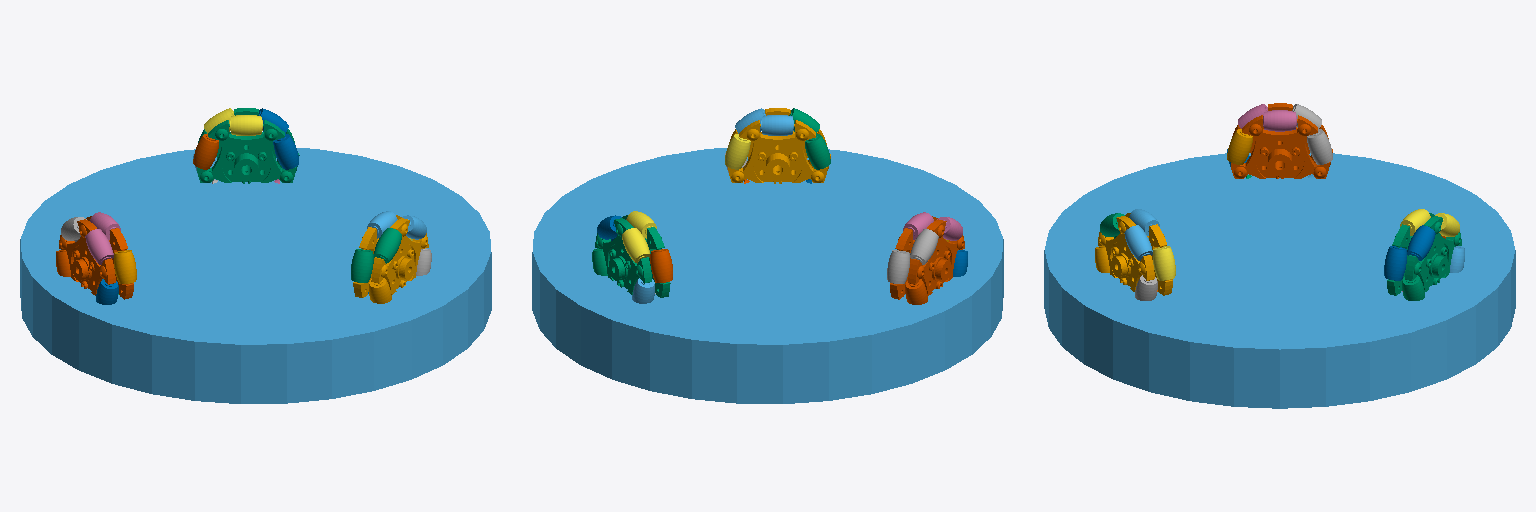
--- Facts derived from the render (not from the file) ---
Views: 3 orthographic renders of the robot side by side, from view 1: azimuth 30°, elevation 25°; view 2: azimuth 150°, elevation 25°; view 3: azimuth 270°, elevation 25°.
Model robotino with 35 links and 34 joints (33 continuous, 1 fixed), rooted at base_link, posed every joint at zero.
Visible links, largest first — view 1: chassis_link, wheel0_link, wheel1_link, wheel2_link, roller_leftupfront_wheel1_link, roller_rightupfront_wheel2_link, roller_rightdownback_wheel1_link, roller_lefttdownback_wheel2_link, roller_upfront_wheel0_link, roller_rightupfront_wheel0_link, roller_leftupfront_wheel0_link; view 2: chassis_link, wheel2_link, wheel0_link, wheel1_link, roller_rightupfront_wheel1_link, roller_leftupfront_wheel0_link, roller_lefttdownback_wheel1_link, roller_rightdownback_wheel0_link, roller_upfront_wheel2_link, roller_leftupfront_wheel2_link, roller_rightupfront_wheel2_link; view 3: chassis_link, wheel1_link, wheel2_link, wheel0_link, roller_upfront_wheel1_link, roller_leftupfront_wheel2_link, roller_rightupfront_wheel0_link, roller_lefttdownback_wheel0_link, roller_rightdownback_wheel2_link, roller_rightupfront_wheel1_link, roller_leftupfront_wheel1_link.
Link boxes in pixels (box(x1,y1,x2,y2)): chassis_link: box(20, 148, 491, 403); wheel0_link: box(197, 108, 295, 183); wheel1_link: box(59, 216, 133, 299); wheel2_link: box(353, 215, 428, 297); roller_leftupfront_wheel1_link: box(114, 250, 136, 283); roller_rightupfront_wheel2_link: box(351, 249, 373, 282); roller_rightdownback_wheel1_link: box(85, 229, 113, 264); roller_lefttdownback_wheel2_link: box(374, 228, 401, 263); roller_upfront_wheel0_link: box(230, 115, 262, 135); roller_rightupfront_wheel0_link: box(273, 134, 298, 169); roller_leftupfront_wheel0_link: box(193, 134, 218, 169); chassis_link: box(532, 148, 1003, 403); wheel2_link: box(728, 108, 827, 183); wheel0_link: box(595, 215, 670, 297); wheel1_link: box(890, 216, 964, 299); roller_rightupfront_wheel1_link: box(887, 250, 909, 283); roller_leftupfront_wheel0_link: box(650, 249, 672, 282); roller_lefttdownback_wheel1_link: box(910, 229, 938, 264); roller_rightdownback_wheel0_link: box(622, 228, 649, 263); roller_upfront_wheel2_link: box(761, 115, 793, 135); roller_leftupfront_wheel2_link: box(725, 134, 750, 169); roller_rightupfront_wheel2_link: box(805, 134, 830, 169); chassis_link: box(1044, 153, 1515, 408); wheel1_link: box(1231, 103, 1329, 178); wheel2_link: box(1098, 213, 1172, 295); wheel0_link: box(1387, 213, 1461, 295); roller_upfront_wheel1_link: box(1263, 110, 1296, 131); roller_leftupfront_wheel2_link: box(1153, 246, 1175, 280); roller_rightupfront_wheel0_link: box(1384, 246, 1406, 280); roller_lefttdownback_wheel0_link: box(1407, 225, 1435, 260); roller_rightdownback_wheel2_link: box(1124, 225, 1152, 260); roller_rightupfront_wheel1_link: box(1307, 129, 1332, 164); roller_leftupfront_wheel1_link: box(1227, 129, 1252, 164).
Size in the robot's own frame: 0.36 by 0.36 by 0.1054 metres.
Meshes: 2 distinct files referenced, 33 mesh visuals loaded (2 binary STL).

The robot description file, URDF, robot "robotino":
<?xml version="1.0" ?>
<!-- =================================================================================== -->
<!-- |    This document was autogenerated by xacro from robotino.urdf.xacro            | -->
<!-- |    EDITING THIS FILE BY HAND IS NOT RECOMMENDED                                 | -->
<!-- =================================================================================== -->
<robot name="robotino">
  <!-- Used for fixing robot to the world in Gazebo -->
  <link name="base_link">
    <!-- <xacro:inertial_cylinder mass="${WHEEL_MASS}" height="${WHEEL_HEIGHT}" radius="${WHEEL_RADIUS}">
            <origin xyz="0 0 0"/>
        </xacro:inertial_cylinder> -->
  </link>
  <link name="chassis_link">
    <inertial>
      <origin xyz="0 0 0"/>
      <mass value="20"/>
      <inertia ixx="0.16616666666666666" ixy="0.0" ixz="0.0" iyy="0.16616666666666666" iyz="0.0" izz="0.32399999999999995"/>
    </inertial>
    <visual>
      <origin rpy="0 0 0" xyz="0 0 0.05"/>
      <origin rpy="0 0 1.570795" xyz="0.01 0 0"/>
      <geometry>
        <cylinder length="0.05" radius="0.18"/>
        <mesh filename="package://robotino_sim/description/meshes/robotino_base.dae" scale="0.01 0.01 0.01"/>
      </geometry>
    </visual>
    <collision>
      <origin rpy="0 0 0" xyz="0 0 0.05"/>
      <geometry>
        <cylinder length="0.05" radius="0.18"/>
      </geometry>
    </collision>
  </link>
  <joint name="chassis_joint" type="fixed">
    <parent link="base_link"/>
    <child link="chassis_link"/>
    <origin xyz="0 0 0"/>
  </joint>
  <gazebo reference="chassis">
    <material>Gazebo/White</material>
    <turnGravityOff>false</turnGravityOff>
  </gazebo>
  <link name="wheel0_link">
    <inertial>
      <origin xyz="0 0 0"/>
      <mass value="1.26"/>
      <inertia ixx="0.000672" ixy="0.0" ixz="0.0" iyy="0.000672" iyz="0.0" izz="0.001008"/>
    </inertial>
    <visual>
      <geometry>
        <mesh filename="package://robotino_roller/description/mesh/rim.stl" scale="0.01 0.01 0.01"/>
      </geometry>
    </visual>
    <collision>
      <geometry>
        <mesh filename="package://robotino_roller/description/mesh/rim.stl" scale="0.01 0.01 0.01"/>
      </geometry>
    </collision>
  </link>
  <joint name="wheel0_joint" type="continuous">
    <parent link="chassis_link"/>
    <child link="wheel0_link"/>
    <origin rpy="1.570795 0 -0.5235983333333333" xyz="0.065 0.11 0.04"/>
    <axis xyz="0 0 1"/>
  </joint>
  <gazebo reference="wheel0_link">
    <material>Gazebo/Yellow</material>
    <turnGravityOff>false</turnGravityOff>
  </gazebo>
  <link name="roller_upfront_wheel0_link">
    <inertial>
      <origin xyz="0 0 -0.00045721033986053993"/>
      <mass value="0.1"/>
      <inertia ixx="7.0710067480021846e-06" ixy="0.0" ixz="0.0" iyy="7.0710067480021846e-06" iyz="0.0" izz="3.4517509961418232e-06"/>
    </inertial>
    <visual>
      <geometry>
        <mesh filename="package://robotino_roller/description/mesh/roller.stl" scale="0.01 0.01 0.01"/>
      </geometry>
    </visual>
    <collision>
      <geometry>
        <mesh filename="package://robotino_roller/description/mesh/roller.stl" scale="0.01 0.01 0.01"/>
      </geometry>
    </collision>
  </link>
  <gazebo reference="roller_upfront_wheel0_link">
    <material>Gazebo/Black</material>
    <!-- <mu1 value="2.5" />
			<mu2 value="2.5" />
			<kp value="5000" />
			<kd value="10" /> -->
  </gazebo>
  <joint name="roller_upfront_wheel0_joint" type="continuous">
    <parent link="wheel0_link"/>
    <child link="roller_upfront_wheel0_link"/>
    <axis xyz="0 0 1"/>
    <origin rpy="-1.570796326794896 0 1.570796326794896" xyz="0.0 0.0320713725278268 0.007331361134789999"/>
    <!--<dynamics damping="0.001"/>-->
  </joint>
  <link name="roller_rightupfront_wheel0_link">
    <inertial>
      <origin xyz="0 0 -0.00045721033986053993"/>
      <mass value="0.1"/>
      <inertia ixx="7.0710067480021846e-06" ixy="0.0" ixz="0.0" iyy="7.0710067480021846e-06" iyz="0.0" izz="3.4517509961418232e-06"/>
    </inertial>
    <visual>
      <geometry>
        <mesh filename="package://robotino_roller/description/mesh/roller.stl" scale="0.01 0.01 0.01"/>
      </geometry>
    </visual>
    <collision>
      <geometry>
        <mesh filename="package://robotino_roller/description/mesh/roller.stl" scale="0.01 0.01 0.01"/>
      </geometry>
    </collision>
  </link>
  <gazebo reference="roller_rightupfront_wheel0_link">
    <material>Gazebo/Black</material>
    <!-- <mu1 value="2.5" />
			<mu2 value="2.5" />
			<kp value="5000" />
			<kd value="10" /> -->
  </gazebo>
  <joint name="roller_rightupfront_wheel0_joint" type="continuous">
    <parent link="wheel0_link"/>
    <child link="roller_rightupfront_wheel0_link"/>
    <axis xyz="0 0 1"/>
    <origin rpy="-1.570796326794896 0 -2.82743" xyz="0.0304984623207264 0.0099040024057254 0.007331361134789999"/>
    <!--<dynamics damping="0.001"/>-->
  </joint>
  <link name="roller_leftupfront_wheel0_link">
    <inertial>
      <origin xyz="0 0 -0.00045721033986053993"/>
      <mass value="0.1"/>
      <inertia ixx="7.0710067480021846e-06" ixy="0.0" ixz="0.0" iyy="7.0710067480021846e-06" iyz="0.0" izz="3.4517509961418232e-06"/>
    </inertial>
    <visual>
      <geometry>
        <mesh filename="package://robotino_roller/description/mesh/roller.stl" scale="0.01 0.01 0.01"/>
      </geometry>
    </visual>
    <collision>
      <geometry>
        <mesh filename="package://robotino_roller/description/mesh/roller.stl" scale="0.01 0.01 0.01"/>
      </geometry>
    </collision>
  </link>
  <gazebo reference="roller_leftupfront_wheel0_link">
    <material>Gazebo/Black</material>
    <!-- <mu1 value="2.5" />
			<mu2 value="2.5" />
			<kp value="5000" />
			<kd value="10" /> -->
  </gazebo>
  <joint name="roller_leftupfront_wheel0_joint" type="continuous">
    <parent link="wheel0_link"/>
    <child link="roller_leftupfront_wheel0_link"/>
    <axis xyz="0 0 1"/>
    <origin rpy="-1.570796326794896 0 2.82743" xyz="-0.0304984623207264 0.0099040024057254 0.007331361134789999"/>
    <!--<dynamics damping="0.001"/>-->
  </joint>
  <link name="roller_rightdownfront_wheel0_link">
    <inertial>
      <origin xyz="0 0 -0.00045721033986053993"/>
      <mass value="0.1"/>
      <inertia ixx="7.0710067480021846e-06" ixy="0.0" ixz="0.0" iyy="7.0710067480021846e-06" iyz="0.0" izz="3.4517509961418232e-06"/>
    </inertial>
    <visual>
      <geometry>
        <mesh filename="package://robotino_roller/description/mesh/roller.stl" scale="0.01 0.01 0.01"/>
      </geometry>
    </visual>
    <collision>
      <geometry>
        <mesh filename="package://robotino_roller/description/mesh/roller.stl" scale="0.01 0.01 0.01"/>
      </geometry>
    </collision>
  </link>
  <gazebo reference="roller_rightdownfront_wheel0_link">
    <material>Gazebo/Black</material>
    <!-- <mu1 value="2.5" />
			<mu2 value="2.5" />
			<kp value="5000" />
			<kd value="10" /> -->
  </gazebo>
  <joint name="roller_rightdownfront_wheel0_joint" type="continuous">
    <parent link="wheel0_link"/>
    <child link="roller_rightdownfront_wheel0_link"/>
    <axis xyz="0 0 1"/>
    <origin rpy="-1.570796326794896 0 -0.959931" xyz="0.018848262990169198 -0.0259530184171566 0.007331361134789999"/>
    <!--<dynamics damping="0.001"/>-->
  </joint>
  <link name="roller_lefttdownfront_wheel0_link">
    <inertial>
      <origin xyz="0 0 -0.00045721033986053993"/>
      <mass value="0.1"/>
      <inertia ixx="7.0710067480021846e-06" ixy="0.0" ixz="0.0" iyy="7.0710067480021846e-06" iyz="0.0" izz="3.4517509961418232e-06"/>
    </inertial>
    <visual>
      <geometry>
        <mesh filename="package://robotino_roller/description/mesh/roller.stl" scale="0.01 0.01 0.01"/>
      </geometry>
    </visual>
    <collision>
      <geometry>
        <mesh filename="package://robotino_roller/description/mesh/roller.stl" scale="0.01 0.01 0.01"/>
      </geometry>
    </collision>
  </link>
  <gazebo reference="roller_lefttdownfront_wheel0_link">
    <material>Gazebo/Black</material>
    <!-- <mu1 value="2.5" />
			<mu2 value="2.5" />
			<kp value="5000" />
			<kd value="10" /> -->
  </gazebo>
  <joint name="roller_lefttdownfront_wheel0_joint" type="continuous">
    <parent link="wheel0_link"/>
    <child link="roller_lefttdownfront_wheel0_link"/>
    <axis xyz="0 0 1"/>
    <origin rpy="-1.570796326794896 0 0.959931" xyz="-0.018848262990169198 -0.0259530184171566 0.007331361134789999"/>
    <!--<dynamics damping="0.001"/>-->
  </joint>
  <link name="roller_upback_wheel0_link">
    <inertial>
      <origin xyz="0 0 -0.00045721033986053993"/>
      <mass value="0.1"/>
      <inertia ixx="7.0710067480021846e-06" ixy="0.0" ixz="0.0" iyy="7.0710067480021846e-06" iyz="0.0" izz="3.4517509961418232e-06"/>
    </inertial>
    <visual>
      <geometry>
        <mesh filename="package://robotino_roller/description/mesh/roller.stl" scale="0.01 0.01 0.01"/>
      </geometry>
    </visual>
    <collision>
      <geometry>
        <mesh filename="package://robotino_roller/description/mesh/roller.stl" scale="0.01 0.01 0.01"/>
      </geometry>
    </collision>
  </link>
  <gazebo reference="roller_upback_wheel0_link">
    <material>Gazebo/Black</material>
    <!-- <mu1 value="2.5" />
			<mu2 value="2.5" />
			<kp value="5000" />
			<kd value="10" /> -->
  </gazebo>
  <joint name="roller_upback_wheel0_joint" type="continuous">
    <parent link="wheel0_link"/>
    <child link="roller_upback_wheel0_link"/>
    <axis xyz="0 0 1"/>
    <origin rpy="-1.570796326794896 0 1.570796326794896" xyz="0.0 -0.0320713725278268 -0.008531038411392"/>
    <!--<dynamics damping="0.001"/>-->
  </joint>
  <link name="roller_rightupback_wheel0_link">
    <inertial>
      <origin xyz="0 0 -0.00045721033986053993"/>
      <mass value="0.1"/>
      <inertia ixx="7.0710067480021846e-06" ixy="0.0" ixz="0.0" iyy="7.0710067480021846e-06" iyz="0.0" izz="3.4517509961418232e-06"/>
    </inertial>
    <visual>
      <geometry>
        <mesh filename="package://robotino_roller/description/mesh/roller.stl" scale="0.01 0.01 0.01"/>
      </geometry>
    </visual>
    <collision>
      <geometry>
        <mesh filename="package://robotino_roller/description/mesh/roller.stl" scale="0.01 0.01 0.01"/>
      </geometry>
    </collision>
  </link>
  <gazebo reference="roller_rightupback_wheel0_link">
    <material>Gazebo/Black</material>
    <!-- <mu1 value="2.5" />
			<mu2 value="2.5" />
			<kp value="5000" />
			<kd value="10" /> -->
  </gazebo>
  <joint name="roller_rightupback_wheel0_joint" type="continuous">
    <parent link="wheel0_link"/>
    <child link="roller_rightupback_wheel0_link"/>
    <axis xyz="0 0 1"/>
    <origin rpy="-1.570796326794896 0 -2.82743" xyz="-0.0304984623207264 -0.0099040024057254 -0.008531038411392"/>
    <!--<dynamics damping="0.001"/>-->
  </joint>
  <link name="roller_leftupback_wheel0_link">
    <inertial>
      <origin xyz="0 0 -0.00045721033986053993"/>
      <mass value="0.1"/>
      <inertia ixx="7.0710067480021846e-06" ixy="0.0" ixz="0.0" iyy="7.0710067480021846e-06" iyz="0.0" izz="3.4517509961418232e-06"/>
    </inertial>
    <visual>
      <geometry>
        <mesh filename="package://robotino_roller/description/mesh/roller.stl" scale="0.01 0.01 0.01"/>
      </geometry>
    </visual>
    <collision>
      <geometry>
        <mesh filename="package://robotino_roller/description/mesh/roller.stl" scale="0.01 0.01 0.01"/>
      </geometry>
    </collision>
  </link>
  <gazebo reference="roller_leftupback_wheel0_link">
    <material>Gazebo/Black</material>
    <!-- <mu1 value="2.5" />
			<mu2 value="2.5" />
			<kp value="5000" />
			<kd value="10" /> -->
  </gazebo>
  <joint name="roller_leftupback_wheel0_joint" type="continuous">
    <parent link="wheel0_link"/>
    <child link="roller_leftupback_wheel0_link"/>
    <axis xyz="0 0 1"/>
    <origin rpy="-1.570796326794896 0 2.82743" xyz="0.0304984623207264 -0.0099040024057254 -0.008531038411392"/>
    <!--<dynamics damping="0.001"/>-->
  </joint>
  <link name="roller_rightdownback_wheel0_link">
    <inertial>
      <origin xyz="0 0 -0.00045721033986053993"/>
      <mass value="0.1"/>
      <inertia ixx="7.0710067480021846e-06" ixy="0.0" ixz="0.0" iyy="7.0710067480021846e-06" iyz="0.0" izz="3.4517509961418232e-06"/>
    </inertial>
    <visual>
      <geometry>
        <mesh filename="package://robotino_roller/description/mesh/roller.stl" scale="0.01 0.01 0.01"/>
      </geometry>
    </visual>
    <collision>
      <geometry>
        <mesh filename="package://robotino_roller/description/mesh/roller.stl" scale="0.01 0.01 0.01"/>
      </geometry>
    </collision>
  </link>
  <gazebo reference="roller_rightdownback_wheel0_link">
    <material>Gazebo/Black</material>
    <!-- <mu1 value="2.5" />
			<mu2 value="2.5" />
			<kp value="5000" />
			<kd value="10" /> -->
  </gazebo>
  <joint name="roller_rightdownback_wheel0_joint" type="continuous">
    <parent link="wheel0_link"/>
    <child link="roller_rightdownback_wheel0_link"/>
    <axis xyz="0 0 1"/>
    <origin rpy="-1.570796326794896 0 -0.959931" xyz="-0.018848262990169198 0.0259530184171566 -0.008531038411392"/>
    <!--<dynamics damping="0.001"/>-->
  </joint>
  <link name="roller_lefttdownback_wheel0_link">
    <inertial>
      <origin xyz="0 0 -0.00045721033986053993"/>
      <mass value="0.1"/>
      <inertia ixx="7.0710067480021846e-06" ixy="0.0" ixz="0.0" iyy="7.0710067480021846e-06" iyz="0.0" izz="3.4517509961418232e-06"/>
    </inertial>
    <visual>
      <geometry>
        <mesh filename="package://robotino_roller/description/mesh/roller.stl" scale="0.01 0.01 0.01"/>
      </geometry>
    </visual>
    <collision>
      <geometry>
        <mesh filename="package://robotino_roller/description/mesh/roller.stl" scale="0.01 0.01 0.01"/>
      </geometry>
    </collision>
  </link>
  <gazebo reference="roller_lefttdownback_wheel0_link">
    <material>Gazebo/Black</material>
    <!-- <mu1 value="2.5" />
			<mu2 value="2.5" />
			<kp value="5000" />
			<kd value="10" /> -->
  </gazebo>
  <joint name="roller_lefttdownback_wheel0_joint" type="continuous">
    <parent link="wheel0_link"/>
    <child link="roller_lefttdownback_wheel0_link"/>
    <axis xyz="0 0 1"/>
    <origin rpy="-1.570796326794896 0 0.959931" xyz="0.018848262990169198 0.0259530184171566 -0.008531038411392"/>
    <!--<dynamics damping="0.001"/>-->
  </joint>
  <transmission name="wheel0_transmission">
    <type>transmission_interface/SimpleTransmission</type>
    <joint name="wheel0_joint">
      <hardwareInterface>hardware_interface/EffortJointInterface</hardwareInterface>
    </joint>
    <actuator name="wheel0_motor">
      <hardwareInterface>hardware_interface/EffortJointInterface</hardwareInterface>
      <mechanicalReduction>1</mechanicalReduction>
    </actuator>
  </transmission>
  <link name="wheel1_link">
    <inertial>
      <origin xyz="0 0 0"/>
      <mass value="1.26"/>
      <inertia ixx="0.000672" ixy="0.0" ixz="0.0" iyy="0.000672" iyz="0.0" izz="0.001008"/>
    </inertial>
    <visual>
      <geometry>
        <mesh filename="package://robotino_roller/description/mesh/rim.stl" scale="0.01 0.01 0.01"/>
      </geometry>
    </visual>
    <collision>
      <geometry>
        <mesh filename="package://robotino_roller/description/mesh/rim.stl" scale="0.01 0.01 0.01"/>
      </geometry>
    </collision>
  </link>
  <joint name="wheel1_joint" type="continuous">
    <parent link="chassis_link"/>
    <child link="wheel1_link"/>
    <origin rpy="1.570795 0 1.570795" xyz="-0.13 0 0.04"/>
    <axis xyz="0 0 1"/>
  </joint>
  <gazebo reference="wheel1_link">
    <material>Gazebo/Yellow</material>
    <turnGravityOff>false</turnGravityOff>
  </gazebo>
  <link name="roller_upfront_wheel1_link">
    <inertial>
      <origin xyz="0 0 -0.00045721033986053993"/>
      <mass value="0.1"/>
      <inertia ixx="7.0710067480021846e-06" ixy="0.0" ixz="0.0" iyy="7.0710067480021846e-06" iyz="0.0" izz="3.4517509961418232e-06"/>
    </inertial>
    <visual>
      <geometry>
        <mesh filename="package://robotino_roller/description/mesh/roller.stl" scale="0.01 0.01 0.01"/>
      </geometry>
    </visual>
    <collision>
      <geometry>
        <mesh filename="package://robotino_roller/description/mesh/roller.stl" scale="0.01 0.01 0.01"/>
      </geometry>
    </collision>
  </link>
  <gazebo reference="roller_upfront_wheel1_link">
    <material>Gazebo/Black</material>
    <!-- <mu1 value="2.5" />
			<mu2 value="2.5" />
			<kp value="5000" />
			<kd value="10" /> -->
  </gazebo>
  <joint name="roller_upfront_wheel1_joint" type="continuous">
    <parent link="wheel1_link"/>
    <child link="roller_upfront_wheel1_link"/>
    <axis xyz="0 0 1"/>
    <origin rpy="-1.570796326794896 0 1.570796326794896" xyz="0.0 0.0320713725278268 0.007331361134789999"/>
    <!--<dynamics damping="0.001"/>-->
  </joint>
  <link name="roller_rightupfront_wheel1_link">
    <inertial>
      <origin xyz="0 0 -0.00045721033986053993"/>
      <mass value="0.1"/>
      <inertia ixx="7.0710067480021846e-06" ixy="0.0" ixz="0.0" iyy="7.0710067480021846e-06" iyz="0.0" izz="3.4517509961418232e-06"/>
    </inertial>
    <visual>
      <geometry>
        <mesh filename="package://robotino_roller/description/mesh/roller.stl" scale="0.01 0.01 0.01"/>
      </geometry>
    </visual>
    <collision>
      <geometry>
        <mesh filename="package://robotino_roller/description/mesh/roller.stl" scale="0.01 0.01 0.01"/>
      </geometry>
    </collision>
  </link>
  <gazebo reference="roller_rightupfront_wheel1_link">
    <material>Gazebo/Black</material>
    <!-- <mu1 value="2.5" />
			<mu2 value="2.5" />
			<kp value="5000" />
			<kd value="10" /> -->
  </gazebo>
  <joint name="roller_rightupfront_wheel1_joint" type="continuous">
    <parent link="wheel1_link"/>
    <child link="roller_rightupfront_wheel1_link"/>
    <axis xyz="0 0 1"/>
    <origin rpy="-1.570796326794896 0 -2.82743" xyz="0.0304984623207264 0.0099040024057254 0.007331361134789999"/>
    <!--<dynamics damping="0.001"/>-->
  </joint>
  <link name="roller_leftupfront_wheel1_link">
    <inertial>
      <origin xyz="0 0 -0.00045721033986053993"/>
      <mass value="0.1"/>
      <inertia ixx="7.0710067480021846e-06" ixy="0.0" ixz="0.0" iyy="7.0710067480021846e-06" iyz="0.0" izz="3.4517509961418232e-06"/>
    </inertial>
    <visual>
      <geometry>
        <mesh filename="package://robotino_roller/description/mesh/roller.stl" scale="0.01 0.01 0.01"/>
      </geometry>
    </visual>
    <collision>
      <geometry>
        <mesh filename="package://robotino_roller/description/mesh/roller.stl" scale="0.01 0.01 0.01"/>
      </geometry>
    </collision>
  </link>
  <gazebo reference="roller_leftupfront_wheel1_link">
    <material>Gazebo/Black</material>
    <!-- <mu1 value="2.5" />
			<mu2 value="2.5" />
			<kp value="5000" />
			<kd value="10" /> -->
  </gazebo>
  <joint name="roller_leftupfront_wheel1_joint" type="continuous">
    <parent link="wheel1_link"/>
    <child link="roller_leftupfront_wheel1_link"/>
    <axis xyz="0 0 1"/>
    <origin rpy="-1.570796326794896 0 2.82743" xyz="-0.0304984623207264 0.0099040024057254 0.007331361134789999"/>
    <!--<dynamics damping="0.001"/>-->
  </joint>
  <link name="roller_rightdownfront_wheel1_link">
    <inertial>
      <origin xyz="0 0 -0.00045721033986053993"/>
      <mass value="0.1"/>
      <inertia ixx="7.0710067480021846e-06" ixy="0.0" ixz="0.0" iyy="7.0710067480021846e-06" iyz="0.0" izz="3.4517509961418232e-06"/>
    </inertial>
    <visual>
      <geometry>
        <mesh filename="package://robotino_roller/description/mesh/roller.stl" scale="0.01 0.01 0.01"/>
      </geometry>
    </visual>
    <collision>
      <geometry>
        <mesh filename="package://robotino_roller/description/mesh/roller.stl" scale="0.01 0.01 0.01"/>
      </geometry>
    </collision>
  </link>
  <gazebo reference="roller_rightdownfront_wheel1_link">
    <material>Gazebo/Black</material>
    <!-- <mu1 value="2.5" />
			<mu2 value="2.5" />
			<kp value="5000" />
			<kd value="10" /> -->
  </gazebo>
  <joint name="roller_rightdownfront_wheel1_joint" type="continuous">
    <parent link="wheel1_link"/>
    <child link="roller_rightdownfront_wheel1_link"/>
    <axis xyz="0 0 1"/>
    <origin rpy="-1.570796326794896 0 -0.959931" xyz="0.018848262990169198 -0.0259530184171566 0.007331361134789999"/>
    <!--<dynamics damping="0.001"/>-->
  </joint>
  <link name="roller_lefttdownfront_wheel1_link">
    <inertial>
      <origin xyz="0 0 -0.00045721033986053993"/>
      <mass value="0.1"/>
      <inertia ixx="7.0710067480021846e-06" ixy="0.0" ixz="0.0" iyy="7.0710067480021846e-06" iyz="0.0" izz="3.4517509961418232e-06"/>
    </inertial>
    <visual>
      <geometry>
        <mesh filename="package://robotino_roller/description/mesh/roller.stl" scale="0.01 0.01 0.01"/>
      </geometry>
    </visual>
    <collision>
      <geometry>
        <mesh filename="package://robotino_roller/description/mesh/roller.stl" scale="0.01 0.01 0.01"/>
      </geometry>
    </collision>
  </link>
  <gazebo reference="roller_lefttdownfront_wheel1_link">
    <material>Gazebo/Black</material>
    <!-- <mu1 value="2.5" />
			<mu2 value="2.5" />
			<kp value="5000" />
			<kd value="10" /> -->
  </gazebo>
  <joint name="roller_lefttdownfront_wheel1_joint" type="continuous">
    <parent link="wheel1_link"/>
    <child link="roller_lefttdownfront_wheel1_link"/>
    <axis xyz="0 0 1"/>
    <origin rpy="-1.570796326794896 0 0.959931" xyz="-0.018848262990169198 -0.0259530184171566 0.007331361134789999"/>
    <!--<dynamics damping="0.001"/>-->
  </joint>
  <link name="roller_upback_wheel1_link">
    <inertial>
      <origin xyz="0 0 -0.00045721033986053993"/>
      <mass value="0.1"/>
      <inertia ixx="7.0710067480021846e-06" ixy="0.0" ixz="0.0" iyy="7.0710067480021846e-06" iyz="0.0" izz="3.4517509961418232e-06"/>
    </inertial>
    <visual>
      <geometry>
        <mesh filename="package://robotino_roller/description/mesh/roller.stl" scale="0.01 0.01 0.01"/>
      </geometry>
    </visual>
    <collision>
      <geometry>
        <mesh filename="package://robotino_roller/description/mesh/roller.stl" scale="0.01 0.01 0.01"/>
      </geometry>
    </collision>
  </link>
  <gazebo reference="roller_upback_wheel1_link">
    <material>Gazebo/Black</material>
    <!-- <mu1 value="2.5" />
			<mu2 value="2.5" />
			<kp value="5000" />
			<kd value="10" /> -->
  </gazebo>
  <joint name="roller_upback_wheel1_joint" type="continuous">
    <parent link="wheel1_link"/>
    <child link="roller_upback_wheel1_link"/>
    <axis xyz="0 0 1"/>
    <origin rpy="-1.570796326794896 0 1.570796326794896" xyz="0.0 -0.0320713725278268 -0.008531038411392"/>
    <!--<dynamics damping="0.001"/>-->
  </joint>
  <link name="roller_rightupback_wheel1_link">
    <inertial>
      <origin xyz="0 0 -0.00045721033986053993"/>
      <mass value="0.1"/>
      <inertia ixx="7.0710067480021846e-06" ixy="0.0" ixz="0.0" iyy="7.0710067480021846e-06" iyz="0.0" izz="3.4517509961418232e-06"/>
    </inertial>
    <visual>
      <geometry>
        <mesh filename="package://robotino_roller/description/mesh/roller.stl" scale="0.01 0.01 0.01"/>
      </geometry>
    </visual>
    <collision>
      <geometry>
        <mesh filename="package://robotino_roller/description/mesh/roller.stl" scale="0.01 0.01 0.01"/>
      </geometry>
    </collision>
  </link>
  <gazebo reference="roller_rightupback_wheel1_link">
    <material>Gazebo/Black</material>
    <!-- <mu1 value="2.5" />
			<mu2 value="2.5" />
			<kp value="5000" />
			<kd value="10" /> -->
  </gazebo>
  <joint name="roller_rightupback_wheel1_joint" type="continuous">
    <parent link="wheel1_link"/>
    <child link="roller_rightupback_wheel1_link"/>
    <axis xyz="0 0 1"/>
    <origin rpy="-1.570796326794896 0 -2.82743" xyz="-0.0304984623207264 -0.0099040024057254 -0.008531038411392"/>
    <!--<dynamics damping="0.001"/>-->
  </joint>
  <link name="roller_leftupback_wheel1_link">
    <inertial>
      <origin xyz="0 0 -0.00045721033986053993"/>
      <mass value="0.1"/>
      <inertia ixx="7.0710067480021846e-06" ixy="0.0" ixz="0.0" iyy="7.0710067480021846e-06" iyz="0.0" izz="3.4517509961418232e-06"/>
    </inertial>
    <visual>
      <geometry>
        <mesh filename="package://robotino_roller/description/mesh/roller.stl" scale="0.01 0.01 0.01"/>
      </geometry>
    </visual>
    <collision>
      <geometry>
        <mesh filename="package://robotino_roller/description/mesh/roller.stl" scale="0.01 0.01 0.01"/>
      </geometry>
    </collision>
  </link>
  <gazebo reference="roller_leftupback_wheel1_link">
    <material>Gazebo/Black</material>
    <!-- <mu1 value="2.5" />
			<mu2 value="2.5" />
			<kp value="5000" />
			<kd value="10" /> -->
  </gazebo>
  <joint name="roller_leftupback_wheel1_joint" type="continuous">
    <parent link="wheel1_link"/>
    <child link="roller_leftupback_wheel1_link"/>
    <axis xyz="0 0 1"/>
    <origin rpy="-1.570796326794896 0 2.82743" xyz="0.0304984623207264 -0.0099040024057254 -0.008531038411392"/>
    <!--<dynamics damping="0.001"/>-->
  </joint>
  <link name="roller_rightdownback_wheel1_link">
    <inertial>
      <origin xyz="0 0 -0.00045721033986053993"/>
      <mass value="0.1"/>
      <inertia ixx="7.0710067480021846e-06" ixy="0.0" ixz="0.0" iyy="7.0710067480021846e-06" iyz="0.0" izz="3.4517509961418232e-06"/>
    </inertial>
    <visual>
      <geometry>
        <mesh filename="package://robotino_roller/description/mesh/roller.stl" scale="0.01 0.01 0.01"/>
      </geometry>
    </visual>
    <collision>
      <geometry>
        <mesh filename="package://robotino_roller/description/mesh/roller.stl" scale="0.01 0.01 0.01"/>
      </geometry>
    </collision>
  </link>
  <gazebo reference="roller_rightdownback_wheel1_link">
    <material>Gazebo/Black</material>
    <!-- <mu1 value="2.5" />
			<mu2 value="2.5" />
			<kp value="5000" />
			<kd value="10" /> -->
  </gazebo>
  <joint name="roller_rightdownback_wheel1_joint" type="continuous">
    <parent link="wheel1_link"/>
    <child link="roller_rightdownback_wheel1_link"/>
    <axis xyz="0 0 1"/>
    <origin rpy="-1.570796326794896 0 -0.959931" xyz="-0.018848262990169198 0.0259530184171566 -0.008531038411392"/>
    <!--<dynamics damping="0.001"/>-->
  </joint>
  <link name="roller_lefttdownback_wheel1_link">
    <inertial>
      <origin xyz="0 0 -0.00045721033986053993"/>
      <mass value="0.1"/>
      <inertia ixx="7.0710067480021846e-06" ixy="0.0" ixz="0.0" iyy="7.0710067480021846e-06" iyz="0.0" izz="3.4517509961418232e-06"/>
    </inertial>
    <visual>
      <geometry>
        <mesh filename="package://robotino_roller/description/mesh/roller.stl" scale="0.01 0.01 0.01"/>
      </geometry>
    </visual>
    <collision>
      <geometry>
        <mesh filename="package://robotino_roller/description/mesh/roller.stl" scale="0.01 0.01 0.01"/>
      </geometry>
    </collision>
  </link>
  <gazebo reference="roller_lefttdownback_wheel1_link">
    <material>Gazebo/Black</material>
    <!-- <mu1 value="2.5" />
			<mu2 value="2.5" />
			<kp value="5000" />
			<kd value="10" /> -->
  </gazebo>
  <joint name="roller_lefttdownback_wheel1_joint" type="continuous">
    <parent link="wheel1_link"/>
    <child link="roller_lefttdownback_wheel1_link"/>
    <axis xyz="0 0 1"/>
    <origin rpy="-1.570796326794896 0 0.959931" xyz="0.018848262990169198 0.0259530184171566 -0.008531038411392"/>
    <!--<dynamics damping="0.001"/>-->
  </joint>
  <transmission name="wheel1_transmission">
    <type>transmission_interface/SimpleTransmission</type>
    <joint name="wheel1_joint">
      <hardwareInterface>hardware_interface/EffortJointInterface</hardwareInterface>
    </joint>
    <actuator name="wheel1_motor">
      <hardwareInterface>hardware_interface/EffortJointInterface</hardwareInterface>
      <mechanicalReduction>1</mechanicalReduction>
    </actuator>
  </transmission>
  <link name="wheel2_link">
    <inertial>
      <origin xyz="0 0 0"/>
      <mass value="1.26"/>
      <inertia ixx="0.000672" ixy="0.0" ixz="0.0" iyy="0.000672" iyz="0.0" izz="0.001008"/>
    </inertial>
    <visual>
      <geometry>
        <mesh filename="package://robotino_roller/description/mesh/rim.stl" scale="0.01 0.01 0.01"/>
      </geometry>
    </visual>
    <collision>
      <geometry>
        <mesh filename="package://robotino_roller/description/mesh/rim.stl" scale="0.01 0.01 0.01"/>
      </geometry>
    </collision>
  </link>
  <joint name="wheel2_joint" type="continuous">
    <parent link="chassis_link"/>
    <child link="wheel2_link"/>
    <origin rpy="1.570795 0 3.6651883333333335" xyz="0.065 -0.11 0.04"/>
    <axis xyz="0 0 1"/>
  </joint>
  <gazebo reference="wheel2_link">
    <material>Gazebo/Yellow</material>
    <turnGravityOff>false</turnGravityOff>
  </gazebo>
  <link name="roller_upfront_wheel2_link">
    <inertial>
      <origin xyz="0 0 -0.00045721033986053993"/>
      <mass value="0.1"/>
      <inertia ixx="7.0710067480021846e-06" ixy="0.0" ixz="0.0" iyy="7.0710067480021846e-06" iyz="0.0" izz="3.4517509961418232e-06"/>
    </inertial>
    <visual>
      <geometry>
        <mesh filename="package://robotino_roller/description/mesh/roller.stl" scale="0.01 0.01 0.01"/>
      </geometry>
    </visual>
    <collision>
      <geometry>
        <mesh filename="package://robotino_roller/description/mesh/roller.stl" scale="0.01 0.01 0.01"/>
      </geometry>
    </collision>
  </link>
  <gazebo reference="roller_upfront_wheel2_link">
    <material>Gazebo/Black</material>
    <!-- <mu1 value="2.5" />
			<mu2 value="2.5" />
			<kp value="5000" />
			<kd value="10" /> -->
  </gazebo>
  <joint name="roller_upfront_wheel2_joint" type="continuous">
    <parent link="wheel2_link"/>
    <child link="roller_upfront_wheel2_link"/>
    <axis xyz="0 0 1"/>
    <origin rpy="-1.570796326794896 0 1.570796326794896" xyz="0.0 0.0320713725278268 0.007331361134789999"/>
    <!--<dynamics damping="0.001"/>-->
  </joint>
  <link name="roller_rightupfront_wheel2_link">
    <inertial>
      <origin xyz="0 0 -0.00045721033986053993"/>
      <mass value="0.1"/>
      <inertia ixx="7.0710067480021846e-06" ixy="0.0" ixz="0.0" iyy="7.0710067480021846e-06" iyz="0.0" izz="3.4517509961418232e-06"/>
    </inertial>
    <visual>
      <geometry>
        <mesh filename="package://robotino_roller/description/mesh/roller.stl" scale="0.01 0.01 0.01"/>
      </geometry>
    </visual>
    <collision>
      <geometry>
        <mesh filename="package://robotino_roller/description/mesh/roller.stl" scale="0.01 0.01 0.01"/>
      </geometry>
    </collision>
  </link>
  <gazebo reference="roller_rightupfront_wheel2_link">
    <material>Gazebo/Black</material>
    <!-- <mu1 value="2.5" />
			<mu2 value="2.5" />
			<kp value="5000" />
			<kd value="10" /> -->
  </gazebo>
  <joint name="roller_rightupfront_wheel2_joint" type="continuous">
    <parent link="wheel2_link"/>
    <child link="roller_rightupfront_wheel2_link"/>
    <axis xyz="0 0 1"/>
    <origin rpy="-1.570796326794896 0 -2.82743" xyz="0.0304984623207264 0.0099040024057254 0.007331361134789999"/>
    <!--<dynamics damping="0.001"/>-->
  </joint>
  <link name="roller_leftupfront_wheel2_link">
    <inertial>
      <origin xyz="0 0 -0.00045721033986053993"/>
      <mass value="0.1"/>
      <inertia ixx="7.0710067480021846e-06" ixy="0.0" ixz="0.0" iyy="7.0710067480021846e-06" iyz="0.0" izz="3.4517509961418232e-06"/>
    </inertial>
    <visual>
      <geometry>
        <mesh filename="package://robotino_roller/description/mesh/roller.stl" scale="0.01 0.01 0.01"/>
      </geometry>
    </visual>
    <collision>
      <geometry>
        <mesh filename="package://robotino_roller/description/mesh/roller.stl" scale="0.01 0.01 0.01"/>
      </geometry>
    </collision>
  </link>
  <gazebo reference="roller_leftupfront_wheel2_link">
    <material>Gazebo/Black</material>
    <!-- <mu1 value="2.5" />
			<mu2 value="2.5" />
			<kp value="5000" />
			<kd value="10" /> -->
  </gazebo>
  <joint name="roller_leftupfront_wheel2_joint" type="continuous">
    <parent link="wheel2_link"/>
    <child link="roller_leftupfront_wheel2_link"/>
    <axis xyz="0 0 1"/>
    <origin rpy="-1.570796326794896 0 2.82743" xyz="-0.0304984623207264 0.0099040024057254 0.007331361134789999"/>
    <!--<dynamics damping="0.001"/>-->
  </joint>
  <link name="roller_rightdownfront_wheel2_link">
    <inertial>
      <origin xyz="0 0 -0.00045721033986053993"/>
      <mass value="0.1"/>
      <inertia ixx="7.0710067480021846e-06" ixy="0.0" ixz="0.0" iyy="7.0710067480021846e-06" iyz="0.0" izz="3.4517509961418232e-06"/>
    </inertial>
    <visual>
      <geometry>
        <mesh filename="package://robotino_roller/description/mesh/roller.stl" scale="0.01 0.01 0.01"/>
      </geometry>
    </visual>
    <collision>
      <geometry>
        <mesh filename="package://robotino_roller/description/mesh/roller.stl" scale="0.01 0.01 0.01"/>
      </geometry>
    </collision>
  </link>
  <gazebo reference="roller_rightdownfront_wheel2_link">
    <material>Gazebo/Black</material>
    <!-- <mu1 value="2.5" />
			<mu2 value="2.5" />
			<kp value="5000" />
			<kd value="10" /> -->
  </gazebo>
  <joint name="roller_rightdownfront_wheel2_joint" type="continuous">
    <parent link="wheel2_link"/>
    <child link="roller_rightdownfront_wheel2_link"/>
    <axis xyz="0 0 1"/>
    <origin rpy="-1.570796326794896 0 -0.959931" xyz="0.018848262990169198 -0.0259530184171566 0.007331361134789999"/>
    <!--<dynamics damping="0.001"/>-->
  </joint>
  <link name="roller_lefttdownfront_wheel2_link">
    <inertial>
      <origin xyz="0 0 -0.00045721033986053993"/>
      <mass value="0.1"/>
      <inertia ixx="7.0710067480021846e-06" ixy="0.0" ixz="0.0" iyy="7.0710067480021846e-06" iyz="0.0" izz="3.4517509961418232e-06"/>
    </inertial>
    <visual>
      <geometry>
        <mesh filename="package://robotino_roller/description/mesh/roller.stl" scale="0.01 0.01 0.01"/>
      </geometry>
    </visual>
    <collision>
      <geometry>
        <mesh filename="package://robotino_roller/description/mesh/roller.stl" scale="0.01 0.01 0.01"/>
      </geometry>
    </collision>
  </link>
  <gazebo reference="roller_lefttdownfront_wheel2_link">
    <material>Gazebo/Black</material>
    <!-- <mu1 value="2.5" />
			<mu2 value="2.5" />
			<kp value="5000" />
			<kd value="10" /> -->
  </gazebo>
  <joint name="roller_lefttdownfront_wheel2_joint" type="continuous">
    <parent link="wheel2_link"/>
    <child link="roller_lefttdownfront_wheel2_link"/>
    <axis xyz="0 0 1"/>
    <origin rpy="-1.570796326794896 0 0.959931" xyz="-0.018848262990169198 -0.0259530184171566 0.007331361134789999"/>
    <!--<dynamics damping="0.001"/>-->
  </joint>
  <link name="roller_upback_wheel2_link">
    <inertial>
      <origin xyz="0 0 -0.00045721033986053993"/>
      <mass value="0.1"/>
      <inertia ixx="7.0710067480021846e-06" ixy="0.0" ixz="0.0" iyy="7.0710067480021846e-06" iyz="0.0" izz="3.4517509961418232e-06"/>
    </inertial>
    <visual>
      <geometry>
        <mesh filename="package://robotino_roller/description/mesh/roller.stl" scale="0.01 0.01 0.01"/>
      </geometry>
    </visual>
    <collision>
      <geometry>
        <mesh filename="package://robotino_roller/description/mesh/roller.stl" scale="0.01 0.01 0.01"/>
      </geometry>
    </collision>
  </link>
  <gazebo reference="roller_upback_wheel2_link">
    <material>Gazebo/Black</material>
    <!-- <mu1 value="2.5" />
			<mu2 value="2.5" />
			<kp value="5000" />
			<kd value="10" /> -->
  </gazebo>
  <joint name="roller_upback_wheel2_joint" type="continuous">
    <parent link="wheel2_link"/>
    <child link="roller_upback_wheel2_link"/>
    <axis xyz="0 0 1"/>
    <origin rpy="-1.570796326794896 0 1.570796326794896" xyz="0.0 -0.0320713725278268 -0.008531038411392"/>
    <!--<dynamics damping="0.001"/>-->
  </joint>
  <link name="roller_rightupback_wheel2_link">
    <inertial>
      <origin xyz="0 0 -0.00045721033986053993"/>
      <mass value="0.1"/>
      <inertia ixx="7.0710067480021846e-06" ixy="0.0" ixz="0.0" iyy="7.0710067480021846e-06" iyz="0.0" izz="3.4517509961418232e-06"/>
    </inertial>
    <visual>
      <geometry>
        <mesh filename="package://robotino_roller/description/mesh/roller.stl" scale="0.01 0.01 0.01"/>
      </geometry>
    </visual>
    <collision>
      <geometry>
        <mesh filename="package://robotino_roller/description/mesh/roller.stl" scale="0.01 0.01 0.01"/>
      </geometry>
    </collision>
  </link>
  <gazebo reference="roller_rightupback_wheel2_link">
    <material>Gazebo/Black</material>
    <!-- <mu1 value="2.5" />
			<mu2 value="2.5" />
			<kp value="5000" />
			<kd value="10" /> -->
  </gazebo>
  <joint name="roller_rightupback_wheel2_joint" type="continuous">
    <parent link="wheel2_link"/>
    <child link="roller_rightupback_wheel2_link"/>
    <axis xyz="0 0 1"/>
    <origin rpy="-1.570796326794896 0 -2.82743" xyz="-0.0304984623207264 -0.0099040024057254 -0.008531038411392"/>
    <!--<dynamics damping="0.001"/>-->
  </joint>
  <link name="roller_leftupback_wheel2_link">
    <inertial>
      <origin xyz="0 0 -0.00045721033986053993"/>
      <mass value="0.1"/>
      <inertia ixx="7.0710067480021846e-06" ixy="0.0" ixz="0.0" iyy="7.0710067480021846e-06" iyz="0.0" izz="3.4517509961418232e-06"/>
    </inertial>
    <visual>
      <geometry>
        <mesh filename="package://robotino_roller/description/mesh/roller.stl" scale="0.01 0.01 0.01"/>
      </geometry>
    </visual>
    <collision>
      <geometry>
        <mesh filename="package://robotino_roller/description/mesh/roller.stl" scale="0.01 0.01 0.01"/>
      </geometry>
    </collision>
  </link>
  <gazebo reference="roller_leftupback_wheel2_link">
    <material>Gazebo/Black</material>
    <!-- <mu1 value="2.5" />
			<mu2 value="2.5" />
			<kp value="5000" />
			<kd value="10" /> -->
  </gazebo>
  <joint name="roller_leftupback_wheel2_joint" type="continuous">
    <parent link="wheel2_link"/>
    <child link="roller_leftupback_wheel2_link"/>
    <axis xyz="0 0 1"/>
    <origin rpy="-1.570796326794896 0 2.82743" xyz="0.0304984623207264 -0.0099040024057254 -0.008531038411392"/>
    <!--<dynamics damping="0.001"/>-->
  </joint>
  <link name="roller_rightdownback_wheel2_link">
    <inertial>
      <origin xyz="0 0 -0.00045721033986053993"/>
      <mass value="0.1"/>
      <inertia ixx="7.0710067480021846e-06" ixy="0.0" ixz="0.0" iyy="7.0710067480021846e-06" iyz="0.0" izz="3.4517509961418232e-06"/>
    </inertial>
    <visual>
      <geometry>
        <mesh filename="package://robotino_roller/description/mesh/roller.stl" scale="0.01 0.01 0.01"/>
      </geometry>
    </visual>
    <collision>
      <geometry>
        <mesh filename="package://robotino_roller/description/mesh/roller.stl" scale="0.01 0.01 0.01"/>
      </geometry>
    </collision>
  </link>
  <gazebo reference="roller_rightdownback_wheel2_link">
    <material>Gazebo/Black</material>
    <!-- <mu1 value="2.5" />
			<mu2 value="2.5" />
			<kp value="5000" />
			<kd value="10" /> -->
  </gazebo>
  <joint name="roller_rightdownback_wheel2_joint" type="continuous">
    <parent link="wheel2_link"/>
    <child link="roller_rightdownback_wheel2_link"/>
    <axis xyz="0 0 1"/>
    <origin rpy="-1.570796326794896 0 -0.959931" xyz="-0.018848262990169198 0.0259530184171566 -0.008531038411392"/>
    <!--<dynamics damping="0.001"/>-->
  </joint>
  <link name="roller_lefttdownback_wheel2_link">
    <inertial>
      <origin xyz="0 0 -0.00045721033986053993"/>
      <mass value="0.1"/>
      <inertia ixx="7.0710067480021846e-06" ixy="0.0" ixz="0.0" iyy="7.0710067480021846e-06" iyz="0.0" izz="3.4517509961418232e-06"/>
    </inertial>
    <visual>
      <geometry>
        <mesh filename="package://robotino_roller/description/mesh/roller.stl" scale="0.01 0.01 0.01"/>
      </geometry>
    </visual>
    <collision>
      <geometry>
        <mesh filename="package://robotino_roller/description/mesh/roller.stl" scale="0.01 0.01 0.01"/>
      </geometry>
    </collision>
  </link>
  <gazebo reference="roller_lefttdownback_wheel2_link">
    <material>Gazebo/Black</material>
    <!-- <mu1 value="2.5" />
			<mu2 value="2.5" />
			<kp value="5000" />
			<kd value="10" /> -->
  </gazebo>
  <joint name="roller_lefttdownback_wheel2_joint" type="continuous">
    <parent link="wheel2_link"/>
    <child link="roller_lefttdownback_wheel2_link"/>
    <axis xyz="0 0 1"/>
    <origin rpy="-1.570796326794896 0 0.959931" xyz="0.018848262990169198 0.0259530184171566 -0.008531038411392"/>
    <!--<dynamics damping="0.001"/>-->
  </joint>
  <transmission name="wheel2_transmission">
    <type>transmission_interface/SimpleTransmission</type>
    <joint name="wheel2_joint">
      <hardwareInterface>hardware_interface/EffortJointInterface</hardwareInterface>
    </joint>
    <actuator name="wheel2_motor">
      <hardwareInterface>hardware_interface/EffortJointInterface</hardwareInterface>
      <mechanicalReduction>1</mechanicalReduction>
    </actuator>
  </transmission>
  <!-- <xacro:macro name="wheel" params="parent name *origin *axis">
        <link name="${name}_link">
            <xacro:inertial_cylinder mass="${WHEEL_MASS}" height="${WHEEL_HEIGHT}" radius="${WHEEL_RADIUS}">
                <origin xyz="0 0 0"/>
            </xacro:inertial_cylinder>
            <visual>
                <origin xyz="0 0 0" rpy="0 0 0"/>
                <geometry>
                    <mesh filename="package://robotino_sim/description/meshes/robotino_wheel.dae" scale="${M_SCALE} ${M_SCALE} ${M_SCALE}"/>
                </geometry>
            </visual>
            <collision>
                <origin xyz="0 0 0" rpy="0 0 0"/>
                <geometry>
                    <mesh filename="package://robotino_sim/description/meshes/robotino_wheel.dae" scale="${M_SCALE} ${M_SCALE} ${M_SCALE}"/>
                </geometry>
            </collision>
        </link>
        <gazebo reference="${name}_link">
            <material>Gazebo/Yellow</material>
            <turnGravityOff>false</turnGravityOff>
        </gazebo>
        <joint name="${name}_joint" type="continuous">
            <xacro:insert_block name="origin" />
            <xacro:insert_block name="axis"/>
            <parent link="${parent}"/>
            <child link="${name}_link"/>
        </joint>
        <transmission name="${name}_joint_trans">
            <type>transmission_interface/SimpleTransmission</type>
            <joint name="${name}_joint">
                <hardwareInterface>hardware_interface/EffortJointInterface</hardwareInterface>
            </joint>
            <actuator name="${name}_motor">
                <hardwareInterface>hardware_interface/EffortJointInterface</hardwareInterface>
                <mechanicalReduction>1</mechanicalReduction>
            </actuator>
        </transmission>
    </xacro:macro>

    <xacro:wheel name="wheel0o" parent="base_link">
        <origin xyz="0.065 0.11 0.08" rpy="0 ${M_PI/2} ${M_PI/3}"/>
        <axis xyz="-1 0 0"/>
    </xacro:wheel>

    <xacro:wheel name="wheel1o" parent="base_link">
        <origin xyz="-0.13 0 0.08" rpy="0 ${M_PI/2} 0"/>
        <axis xyz="1 0 0"/>
    </xacro:wheel>

    <xacro:wheel name="wheel2o" parent="base_link">
        <origin xyz="0.065 -0.11 0.08" rpy="0 ${M_PI/2} -${M_PI/3}"/>
        <axis xyz="-1 0 0"/>
    </xacro:wheel> -->
  <gazebo>
    <plugin filename="libgazebo_ros_control.so" name="gazebo_ros_control"/>
  </gazebo>
</robot>
